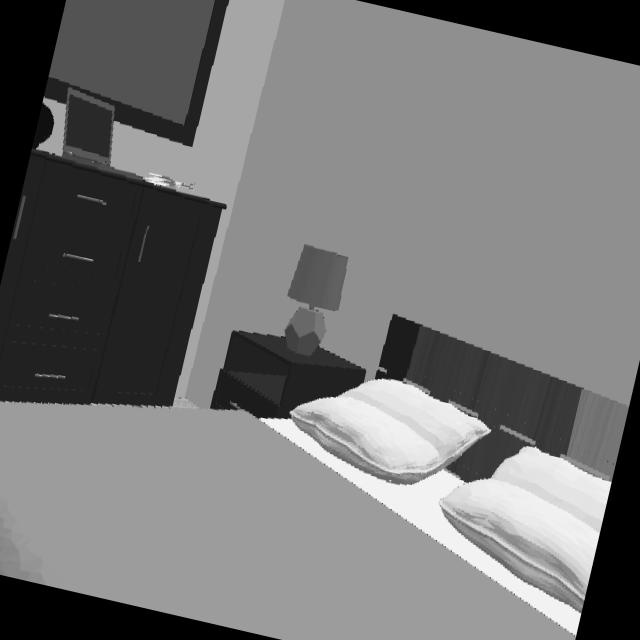bed: (0, 315, 628, 640)
cabinet: (0, 149, 226, 407)
lamp: (284, 244, 349, 357)
laptop: (61, 86, 136, 178)
nighttable: (212, 332, 367, 420)
pillow: (437, 446, 611, 614), (289, 379, 490, 486)
